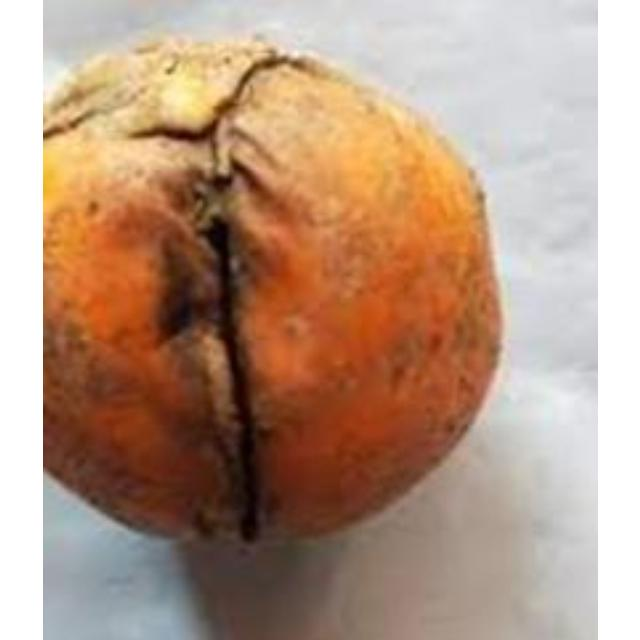damaged: (42, 35, 507, 555)
